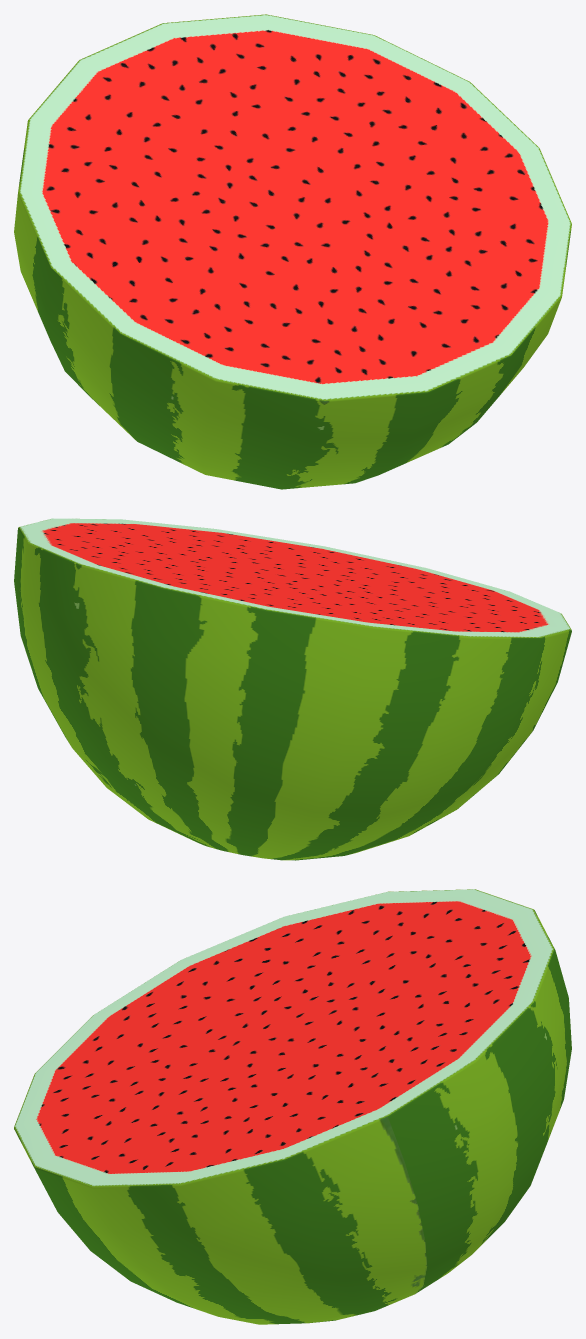
The model's file is melancia.glb.
The picture shows the model from 3 angles, top to bottom: view 1: azimuth 30°, elevation 25°; view 2: azimuth 150°, elevation 25°; view 3: azimuth 270°, elevation 25°; orthographic projection.
Parts seen in each view (by area): view 1: Watermelon_Half; view 2: Watermelon_Half; view 3: Watermelon_Half.
Boxes of the visible parts, left/top/right/bottom form: Watermelon_Half: left=14, top=14, right=571, bottom=489; Watermelon_Half: left=14, top=518, right=571, bottom=860; Watermelon_Half: left=14, top=889, right=571, bottom=1324.
Size of the model in its own units: 0.2444 by 0.1637 by 0.2367.
Materials: 1 (1 with a texture image).
